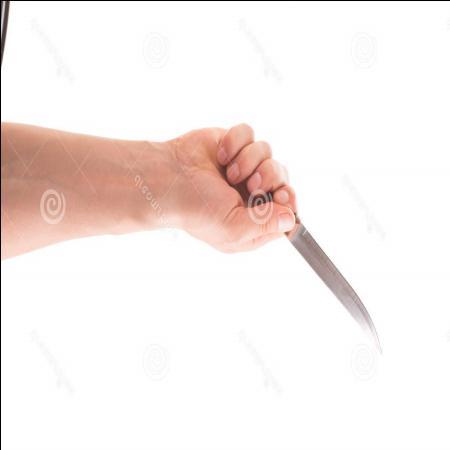long weapon: (224, 147, 388, 367)
